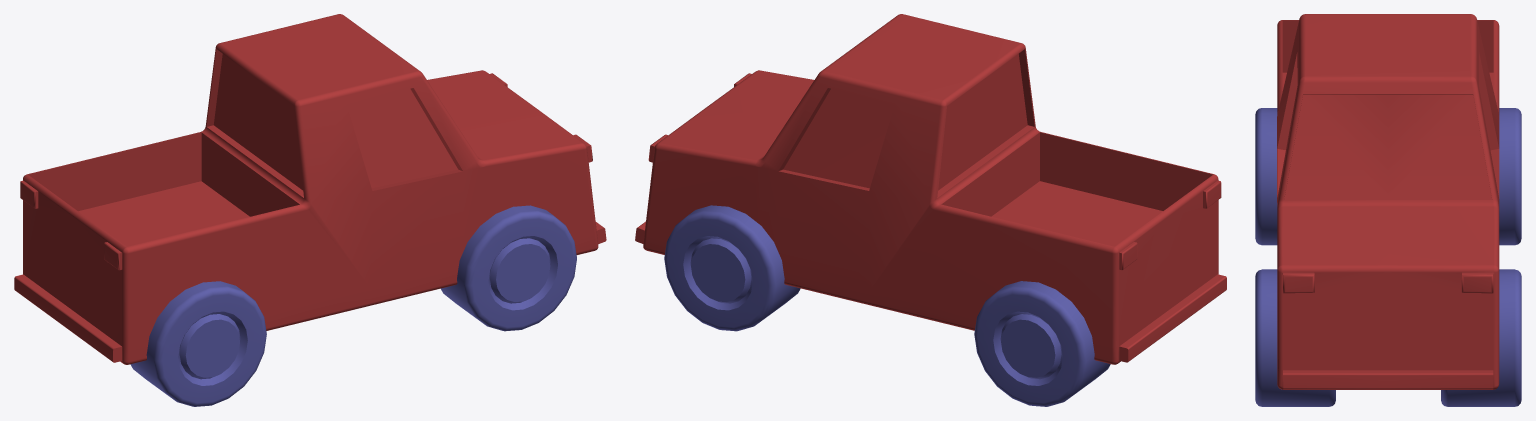
Rendered from camion.gltf.
3 views of the same model, side by side, from view 1: azimuth 30°, elevation 25°; view 2: azimuth 150°, elevation 25°; view 3: azimuth 270°, elevation 25° (orthographic). The views are drawn at different scales.
Parts seen in each view (by area): view 1: body, pCylinder10_lambert1_0, pCylinder2; view 2: body, pCylinder10_lambert1_0; view 3: body, pCylinder10_lambert1_0, pCylinder2.
Boxes of the visible parts, x1,y1,x2,y2 form: body: (14,14,606,364); pCylinder10_lambert1_0: (130,211,576,406); pCylinder2: (441,205,576,331); body: (635,14,1226,364); pCylinder10_lambert1_0: (664,205,1110,406); body: (1277,14,1499,389); pCylinder10_lambert1_0: (1255,108,1521,406); pCylinder2: (1255,269,1335,406).
Bounding box in the file's own units: 3.49 × 1.78 × 1.53.
